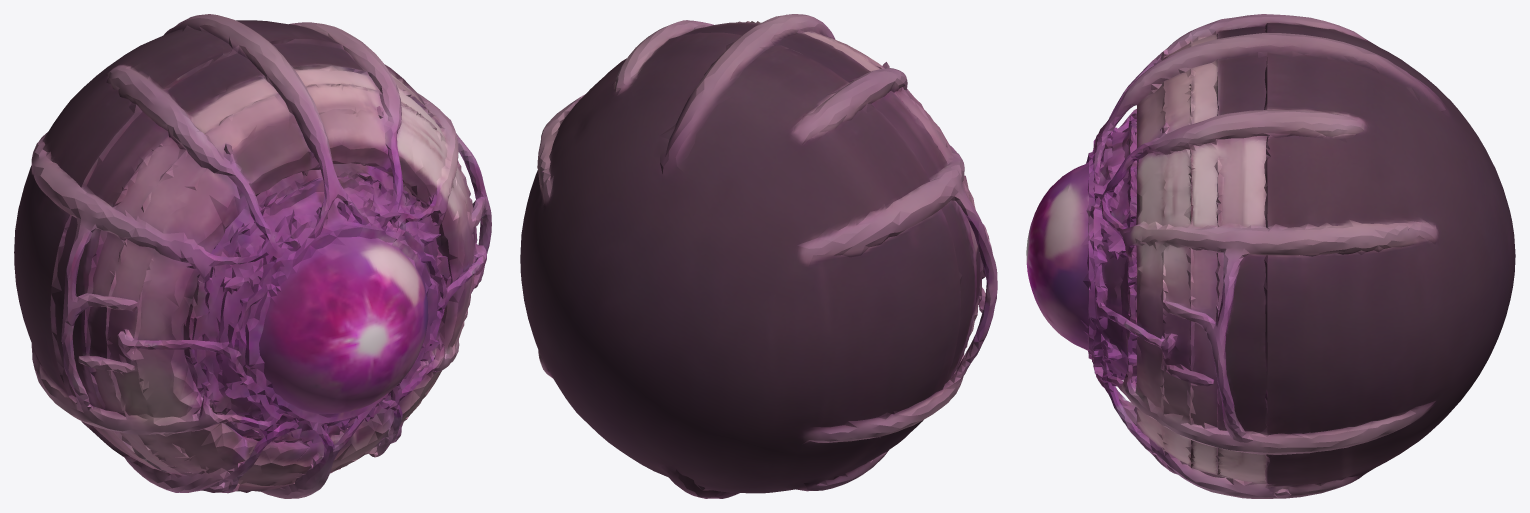
The model's file is kraken_shield.glb.
3 views of the same model, side by side, from view 1: azimuth 30°, elevation 25°; view 2: azimuth 150°, elevation 25°; view 3: azimuth 270°, elevation 25° (orthographic).
Parts seen in each view (by area): view 1: kraken_shield; view 2: kraken_shield; view 3: kraken_shield.
Boxes of the visible parts, left/top/right/bottom form: kraken_shield: left=14, top=14, right=491, bottom=498; kraken_shield: left=520, top=14, right=997, bottom=498; kraken_shield: left=1026, top=14, right=1515, bottom=498.
Size of the model in its own units: 1.89 by 1.9 by 1.9.
1 material, 1 textured.
